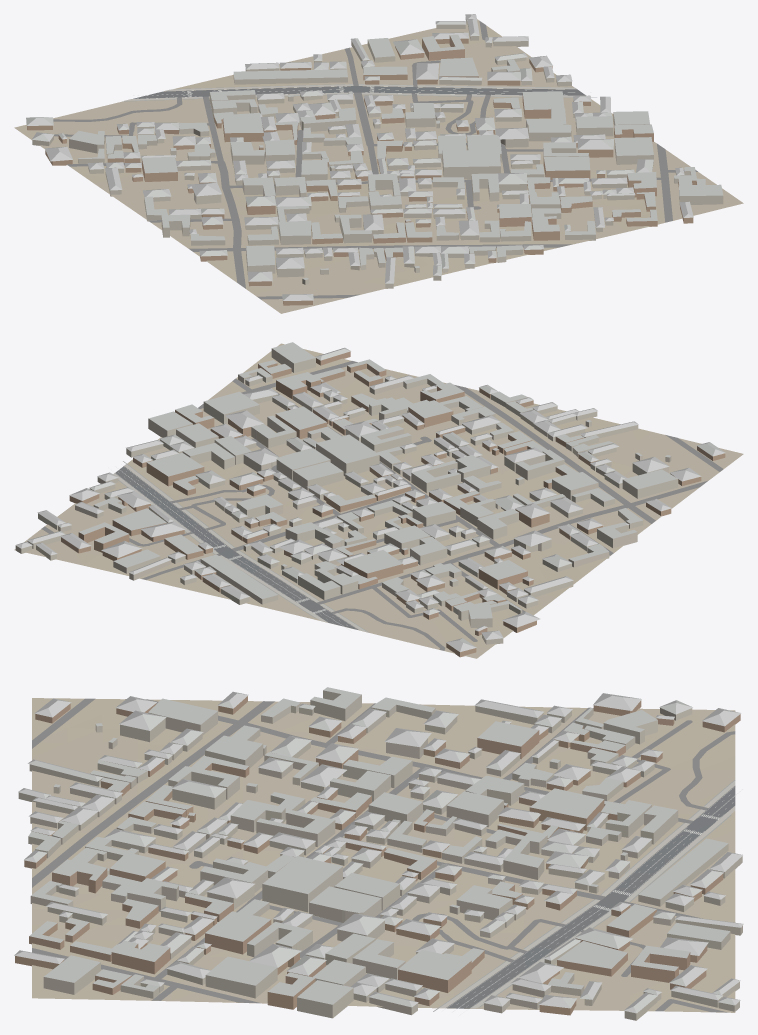
File: bolak_5_3.glb
3 views of the same model, one above another, from view 1: azimuth 30°, elevation 25°; view 2: azimuth 150°, elevation 25°; view 3: azimuth 270°, elevation 25° (orthographic). The views are drawn at different scales.
Visible parts, largest first — view 1: Tom_Shifer, Yer_Tuproq-col, Devor_Suvoq-col, Devor_Gisht-col, Yol_Mahalla-col, Yol_Asfalt-col, Trotuar; view 2: Tom_Shifer, Yer_Tuproq-col, Devor_Suvoq-col, Devor_Gisht-col, Yol_Mahalla-col, Yol_Asfalt-col, Trotuar; view 3: Tom_Shifer, Yer_Tuproq-col, Devor_Suvoq-col, Devor_Gisht-col, Yol_Mahalla-col, Yol_Asfalt-col, Trotuar, Yol_Chiziq, Ariq.
Part boxes in pixels (x1,y1,x2,y2): Tom_Shifer: (26, 14, 723, 300); Yer_Tuproq-col: (14, 19, 743, 313); Devor_Suvoq-col: (32, 17, 723, 288); Devor_Gisht-col: (27, 35, 696, 305); Yol_Mahalla-col: (53, 20, 697, 299); Yol_Asfalt-col: (133, 86, 585, 98); Trotuar: (124, 84, 586, 100); Tom_Shifer: (15, 342, 725, 651); Yer_Tuproq-col: (14, 343, 743, 658); Devor_Suvoq-col: (15, 348, 678, 644); Devor_Gisht-col: (61, 351, 725, 657); Yol_Mahalla-col: (27, 361, 723, 650); Yol_Asfalt-col: (115, 466, 358, 629); Trotuar: (113, 464, 366, 631); Tom_Shifer: (14, 687, 743, 1013); Yer_Tuproq-col: (32, 698, 735, 1012); Devor_Suvoq-col: (18, 690, 742, 1020); Devor_Gisht-col: (15, 696, 740, 1015); Yol_Mahalla-col: (32, 698, 735, 1012); Yol_Asfalt-col: (446, 786, 735, 1008); Trotuar: (440, 780, 735, 1008); Yol_Chiziq: (443, 787, 742, 1015); Ariq: (433, 780, 735, 1011).
Size of what is drawn, in the model's own units: 428 by 21.81 by 415.
